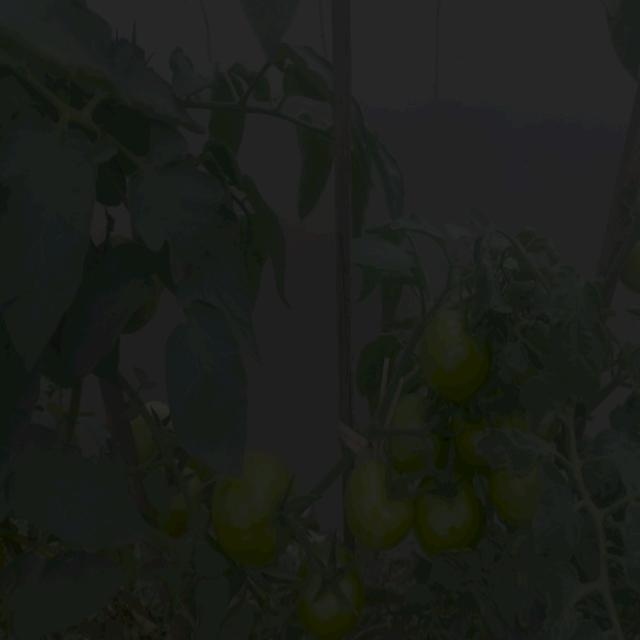tomato: (222, 458, 307, 570), (342, 455, 416, 554), (414, 471, 492, 549), (421, 310, 487, 401), (298, 556, 368, 634), (496, 471, 546, 523), (388, 433, 450, 470), (166, 478, 196, 545), (458, 409, 490, 460), (398, 395, 434, 433), (151, 397, 176, 440), (136, 412, 160, 456)
